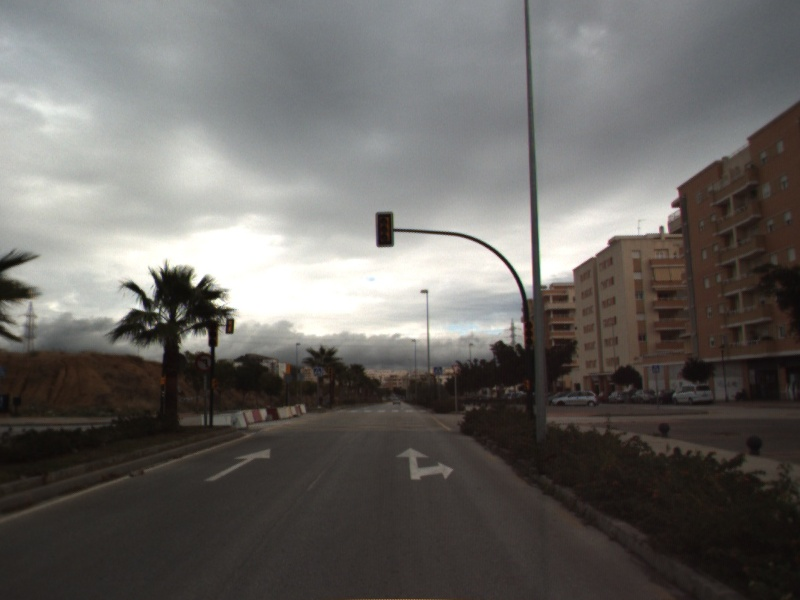STRAIGHT: (202, 446, 272, 483)
STRAIGHT_RIGHT: (394, 445, 455, 482)
